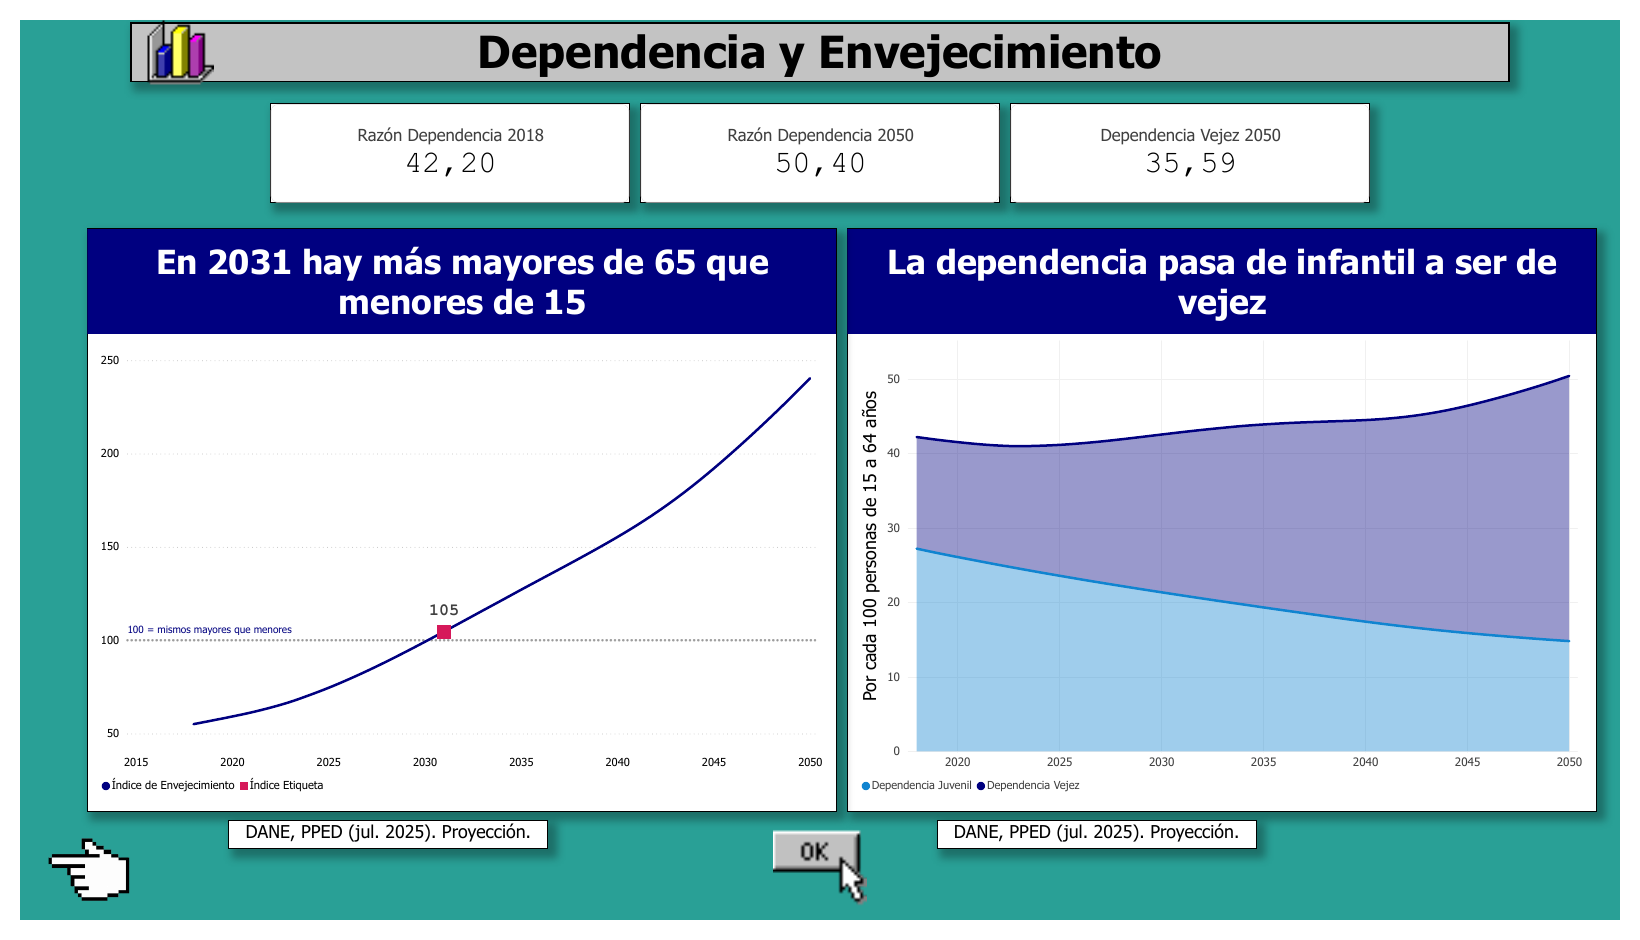

The dashboard page shown, as its layout file describes it:
{"tool":"powerbi","page":{"name":"Dependencia","canvas":[1920,1080],"ordinal":2},"visuals":[{"type":"textbox","box":[132,3,1656,72],"z":0},{"type":"image","box":[128,0,128,80],"z":1000},{"type":"cardVisual","fields":{"Data":["Medidas.Razón Dependencia 2018"]},"box":[300,100,432,120],"z":2000},{"type":"cardVisual","fields":{"Data":["Medidas.Razón Dependencia 2050"]},"box":[744,100,432,120],"z":3000},{"type":"cardVisual","fields":{"Data":["Medidas.Dependencia Vejez 2050"]},"box":[1188,100,432,120],"z":4000},{"type":"stackedAreaChart","title":"La dependencia pasa de infantil a ser de vejez","fields":{"Category":["Años.Value"],"Y":["Medidas.Dependencia Juvenil","Medidas.Dependencia Vejez"]},"box":[992,250,900,700],"z":5000},{"type":"lineChart","title":"En 2031 hay más mayores de 65 que menores de 15","fields":{"Category":["Años.Value"],"Y":["Medidas.Índice de Envejecimiento","Medidas.Índice Etiqueta"]},"box":[80,250,900,700],"z":6000},{"type":"image","box":[0,960,170,120],"z":6001},{"type":"image","box":[736,968,448,112],"z":6002},{"type":"textbox","box":[250,960,384,35],"z":6003},{"type":"textbox","box":[1100,960,384,35],"z":6004}]}

Visuals, with their boxes in screenshot pixels (x1, y1, x2, y2), scaled from the page's 1920x1080 canvas onto the 1640x940 screenshot:
textbox: (113,3,1527,65)
image: (109,0,219,70)
cardVisual - Medidas.Razón Dependencia 2018: (256,87,625,191)
cardVisual - Medidas.Razón Dependencia 2050: (636,87,1004,191)
cardVisual - Medidas.Dependencia Vejez 2050: (1015,87,1384,191)
"La dependencia pasa de infantil a ser de vejez" stackedAreaChart: (847,218,1616,827)
"En 2031 hay más mayores de 65 que menores de 15" lineChart: (68,218,837,827)
image: (0,836,145,939)
image: (629,843,1011,939)
textbox: (214,836,542,866)
textbox: (940,836,1268,866)
